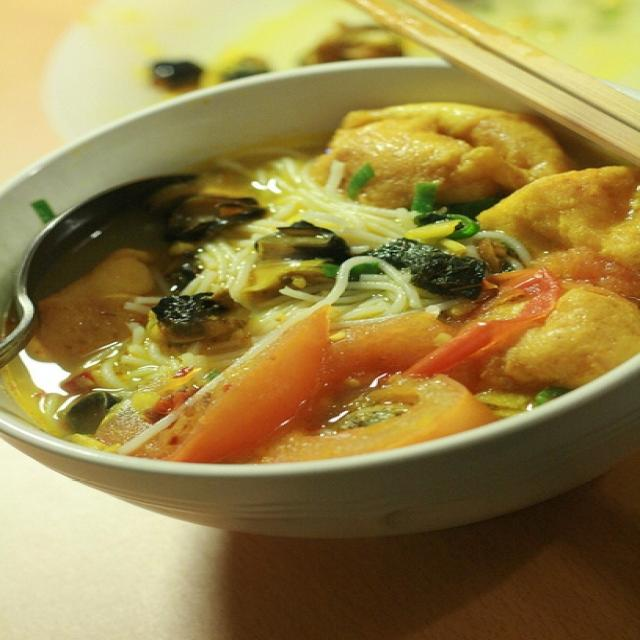面条主食: (8, 50, 637, 506)
